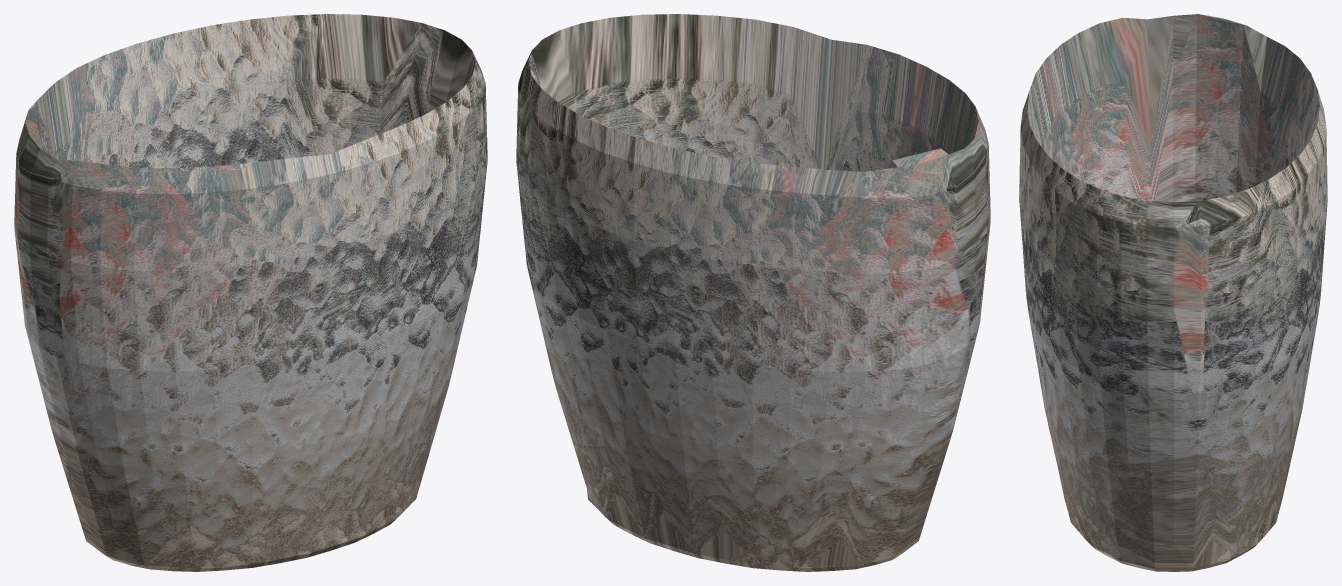
File: Jarron2.fbx
The picture shows the model from 3 angles, left to right: view 1: azimuth 30°, elevation 25°; view 2: azimuth 150°, elevation 25°; view 3: azimuth 270°, elevation 25°; orthographic projection. The views are drawn at different scales.
Parts seen in each view (by area): view 1: Baso 3; view 2: Baso 3; view 3: Baso 3.
Boxes of the visible parts, x1,y1,x2,y2 form: Baso 3: [14, 14, 487, 571]; Baso 3: [516, 14, 990, 571]; Baso 3: [1019, 14, 1327, 571].
Bounding box in the file's own units: 0.7161 × 0.6678 × 0.4612.
Materials: 1 (1 with a texture image).
